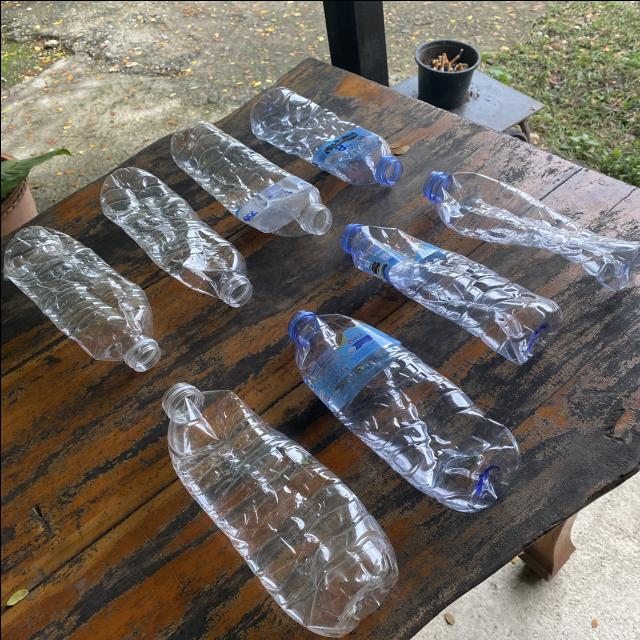plastik: (162, 382, 397, 636), (290, 312, 519, 511), (340, 223, 562, 362), (422, 170, 640, 290), (3, 224, 159, 370), (100, 166, 251, 306), (170, 119, 331, 235), (250, 86, 402, 184)
